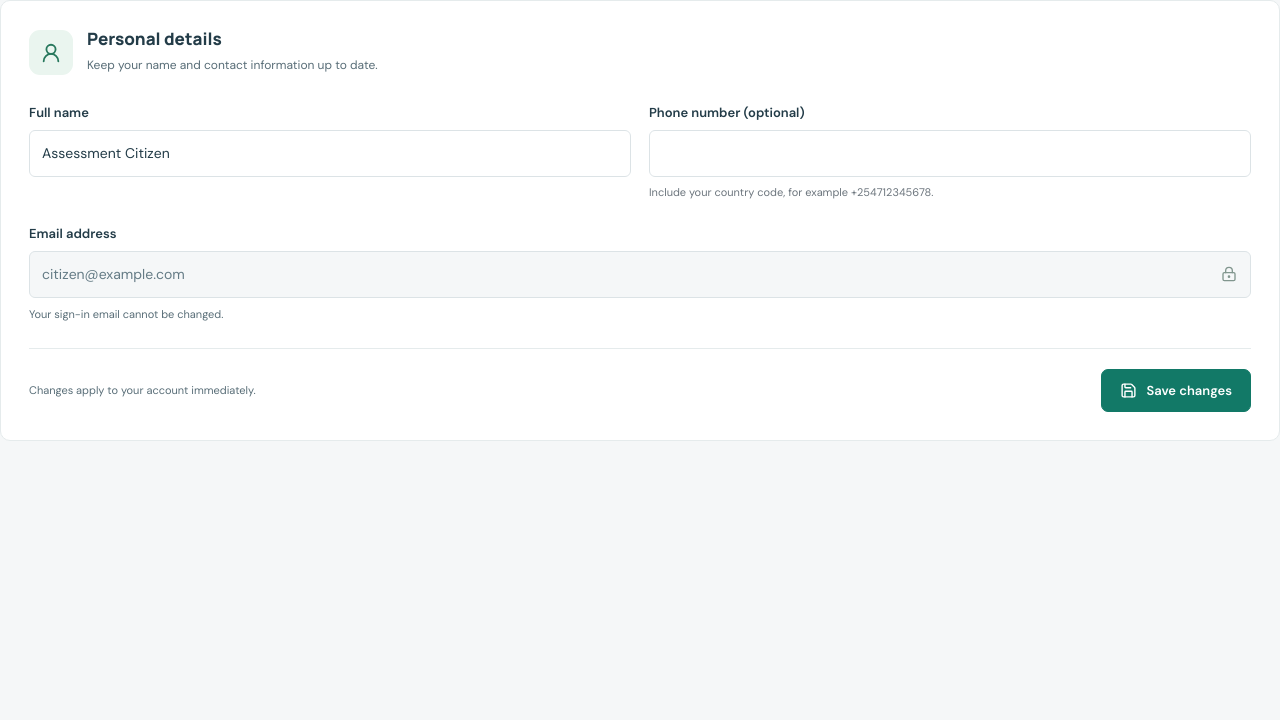
Personal details and account security forms › keeps email read-only and updates the shared account after saving
Step 1. Replace the text in the field labelled "Full name" with "Updated Citizen" → (330, 154), box [29,130,631,177]
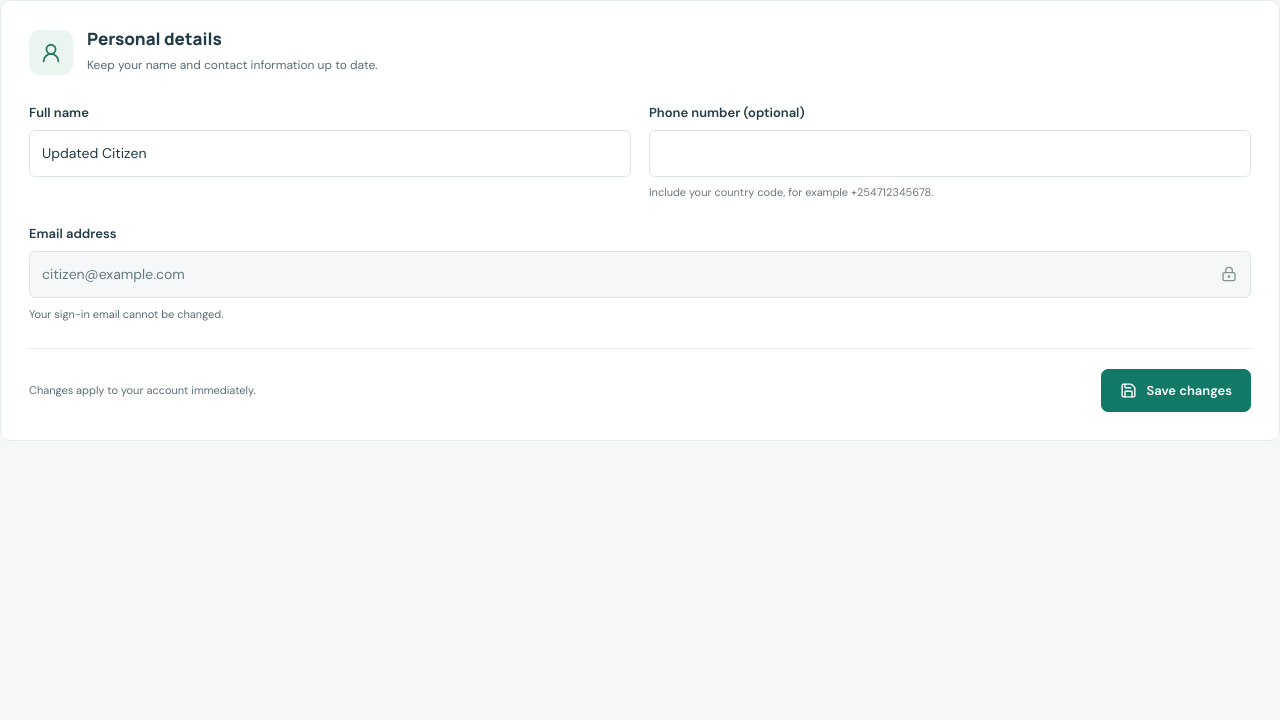
Step 2. Type "+254712345678" into the field labelled "Phone number (optional)" → (950, 154), box [649,130,1251,177]
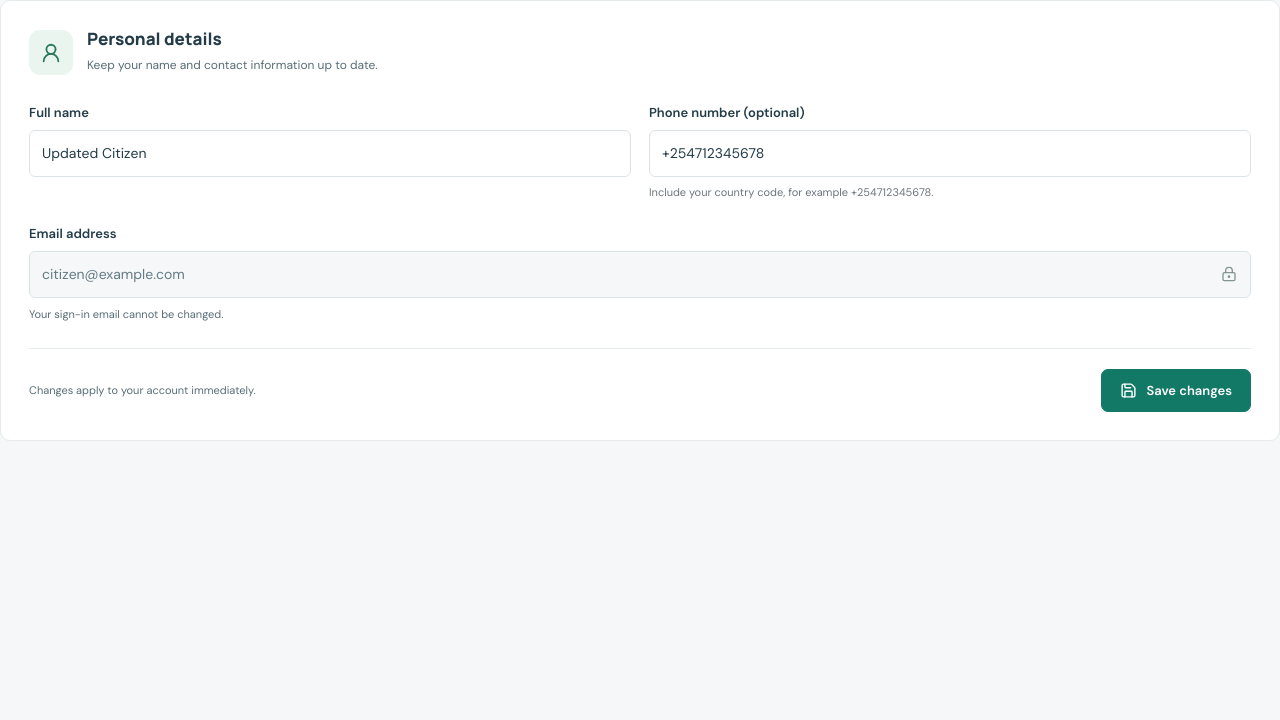
Step 3. Click the button "Save changes" → (1176, 391), box [1102,369,1251,412]
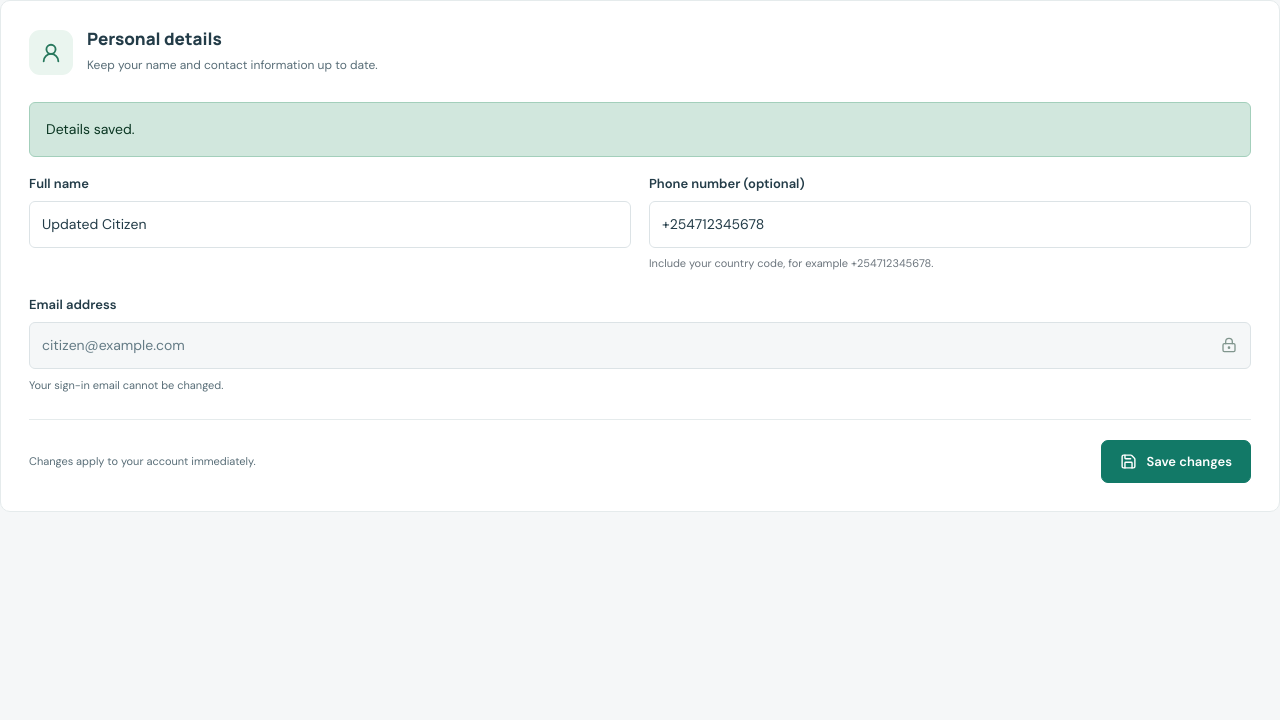
Expected: the message reads "Details saved.", [46,120,135,138]
